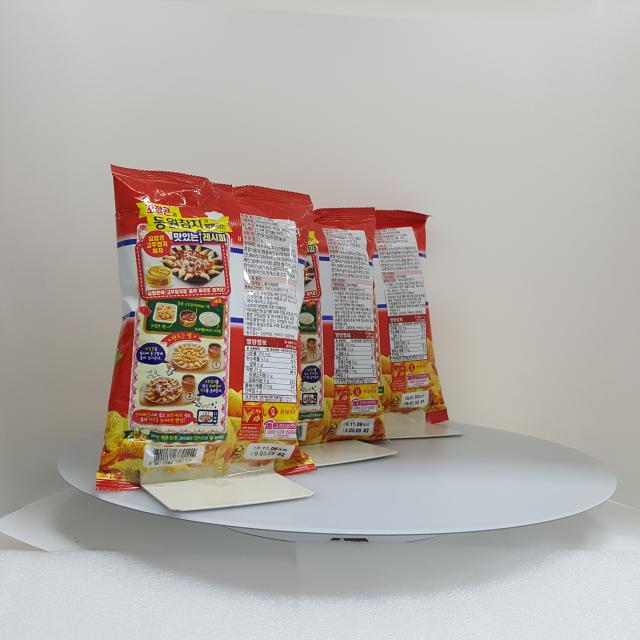-72G: (96, 164, 319, 493), (234, 208, 392, 448)
